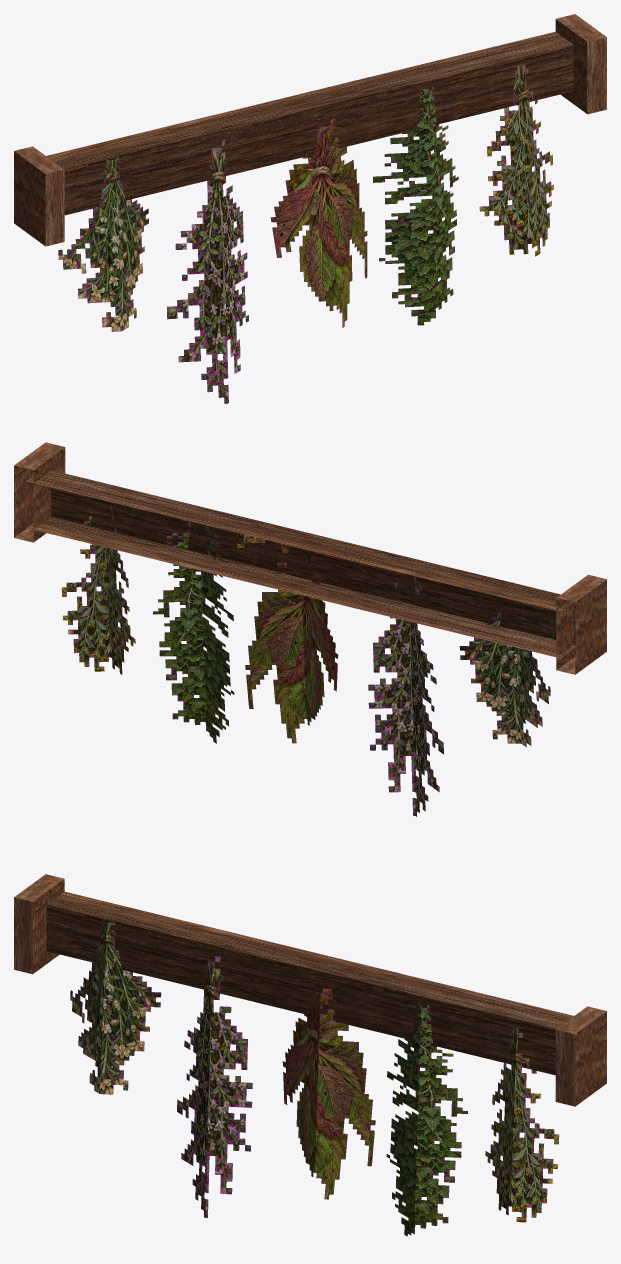
The model's file is mm9_deco_herbrack2.glb.
The picture shows the model from 3 angles, top to bottom: view 1: azimuth 30°, elevation 25°; view 2: azimuth 150°, elevation 25°; view 3: azimuth 330°, elevation 25°; orthographic projection.
Parts seen in each view (by area): view 1: Herbrack2; view 2: Herbrack2; view 3: Herbrack2.
Part boxes in pixels (box(x1,y1,x2,y2)): Herbrack2: box(14, 14, 606, 403); Herbrack2: box(14, 442, 606, 816); Herbrack2: box(14, 874, 606, 1236).
Bounding box in the file's own units: 1.24 × 0.6076 × 0.1214.
Materials: 1 (1 with a texture image).
